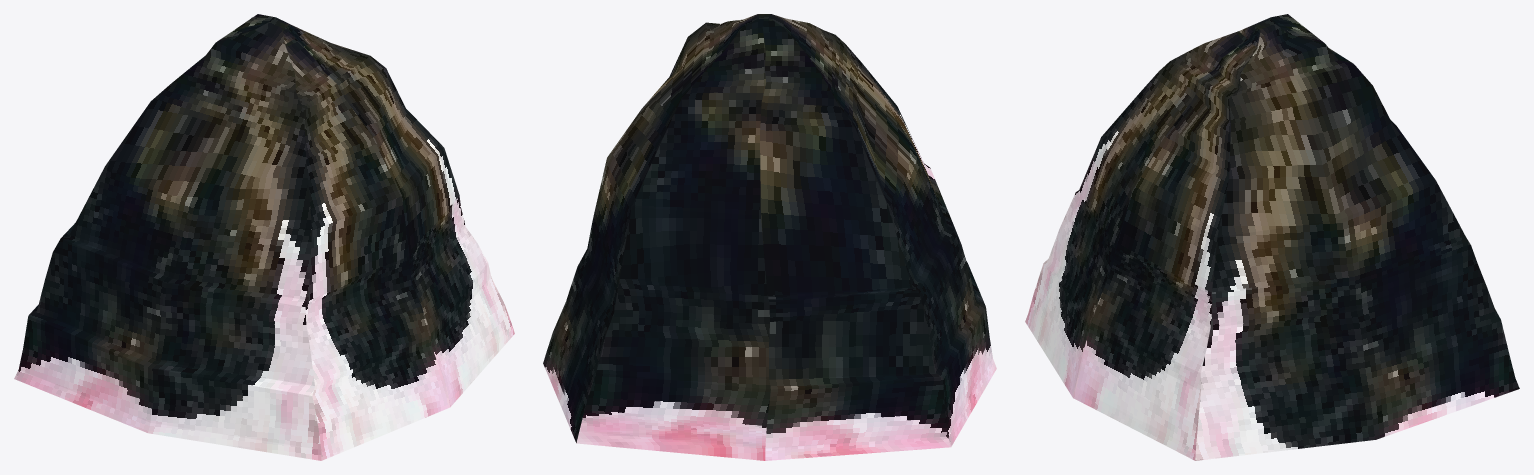
The picture shows the model from 3 angles, left to right: view 1: azimuth 30°, elevation 25°; view 2: azimuth 150°, elevation 25°; view 3: azimuth 270°, elevation 25°; orthographic projection. The views are drawn at different scales.
Parts seen in each view (by area): view 1: SPLICE_1.004; view 2: SPLICE_1.004; view 3: SPLICE_1.004.
Boxes of the visible parts, x1,y1,x2,y2 form: SPLICE_1.004: (14, 14, 514, 460); SPLICE_1.004: (543, 14, 996, 460); SPLICE_1.004: (1025, 14, 1519, 460).
Bounding box in the file's own units: 1.21 × 0.9111 × 1.21.
1 material, 1 textured.
